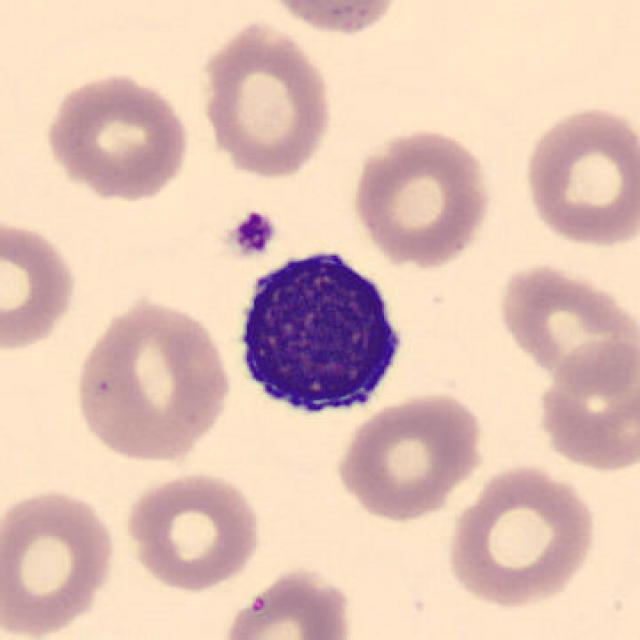Lymphocyte: (224, 236, 416, 428)
Platelets: (226, 208, 277, 261)
RBC: (69, 293, 235, 467), (443, 460, 601, 610), (196, 16, 336, 181), (348, 123, 496, 270), (333, 389, 487, 524), (41, 69, 194, 203), (0, 483, 121, 640), (494, 259, 636, 388), (121, 467, 265, 594), (519, 102, 638, 250), (531, 331, 640, 477), (0, 213, 82, 354), (219, 564, 357, 640), (254, 0, 407, 37)
